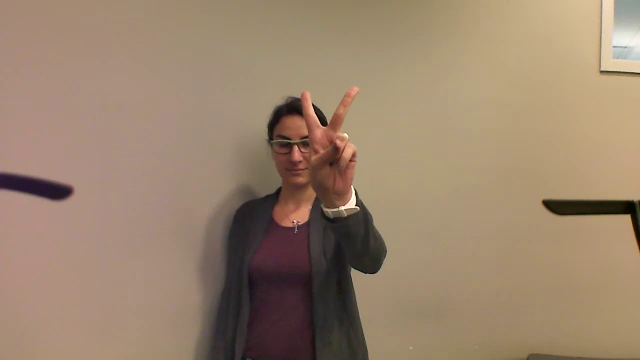peace: (295, 79, 369, 196)
